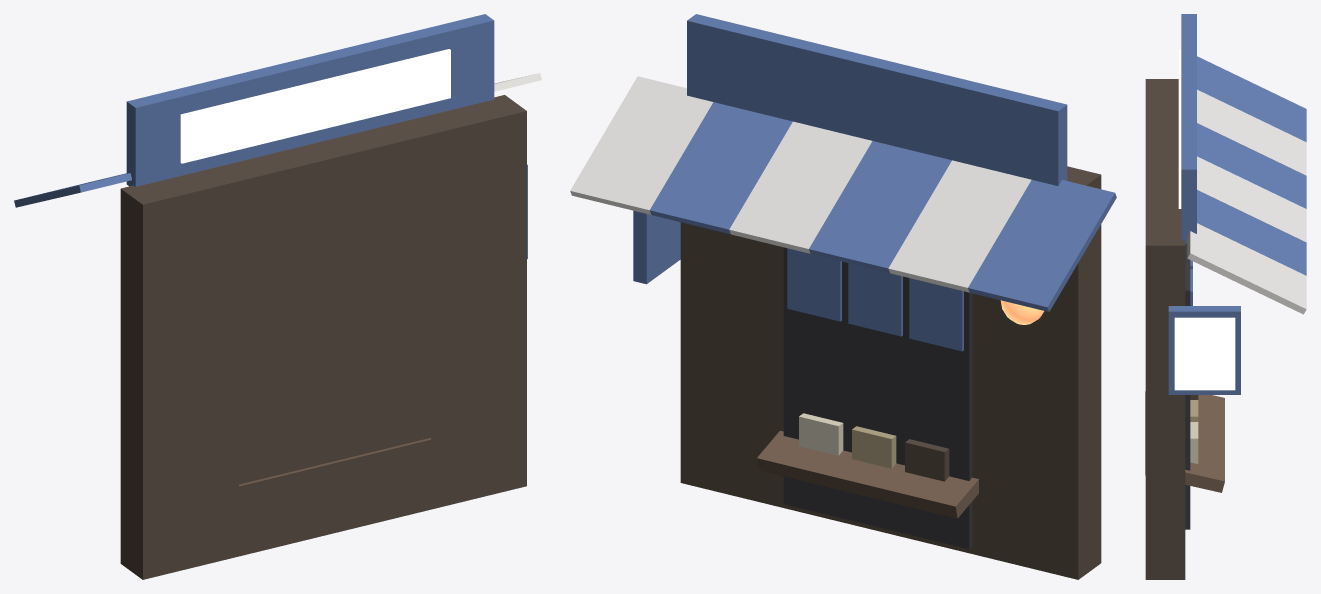
Rendered from prop_mise_sushi.glb.
3 views of the same model, side by side, from view 1: azimuth 30°, elevation 25°; view 2: azimuth 150°, elevation 25°; view 3: azimuth 270°, elevation 25° (orthographic). The views are drawn at different scales.
Parts seen in each view (by area): view 1: mise_sushi; view 2: mise_sushi; view 3: mise_sushi.
Boxes of the visible parts, <box> form: mise_sushi: <box>14,14,541,579</box>; mise_sushi: <box>570,14,1116,579</box>; mise_sushi: <box>1145,14,1306,579</box>.
Bounding box in the file's own units: 3.6 × 3.39 × 1.23.
